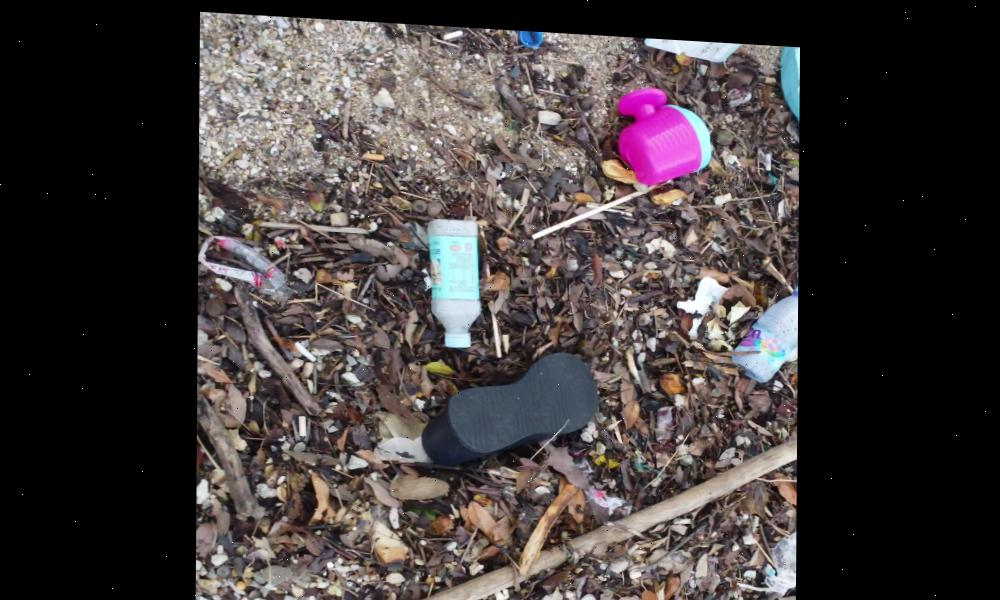carton: (648, 30, 742, 50)
plastic bottle: (432, 208, 485, 345), (730, 268, 799, 373)
